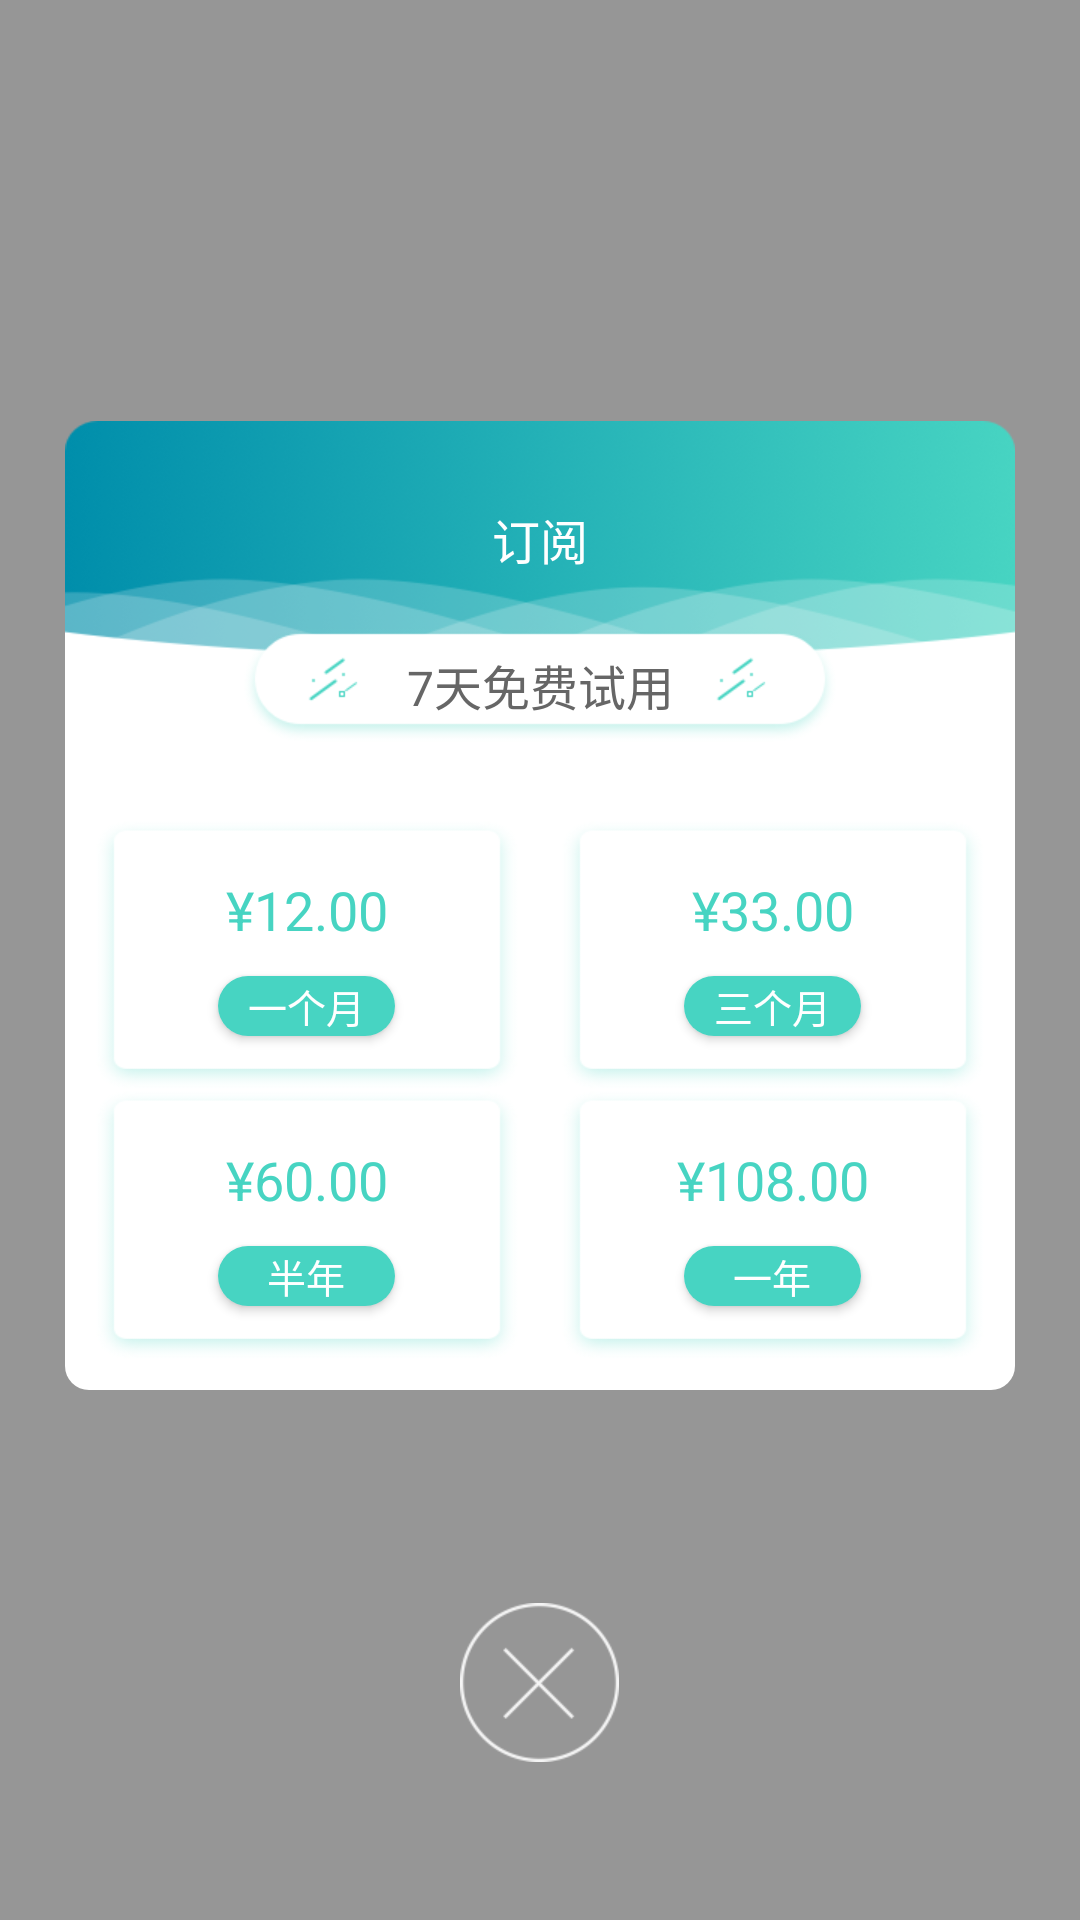

Locate icon controls on the screen. Image size 1080px×1920px, boxes as (x1, y1, x2, y2).
index close: (460, 1603, 619, 1762)
